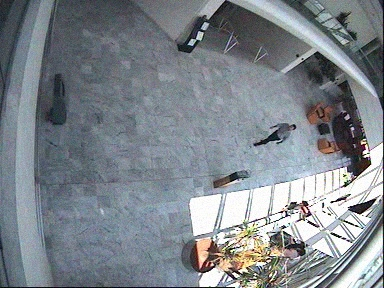person: (252, 123, 296, 146), (282, 200, 313, 218)
